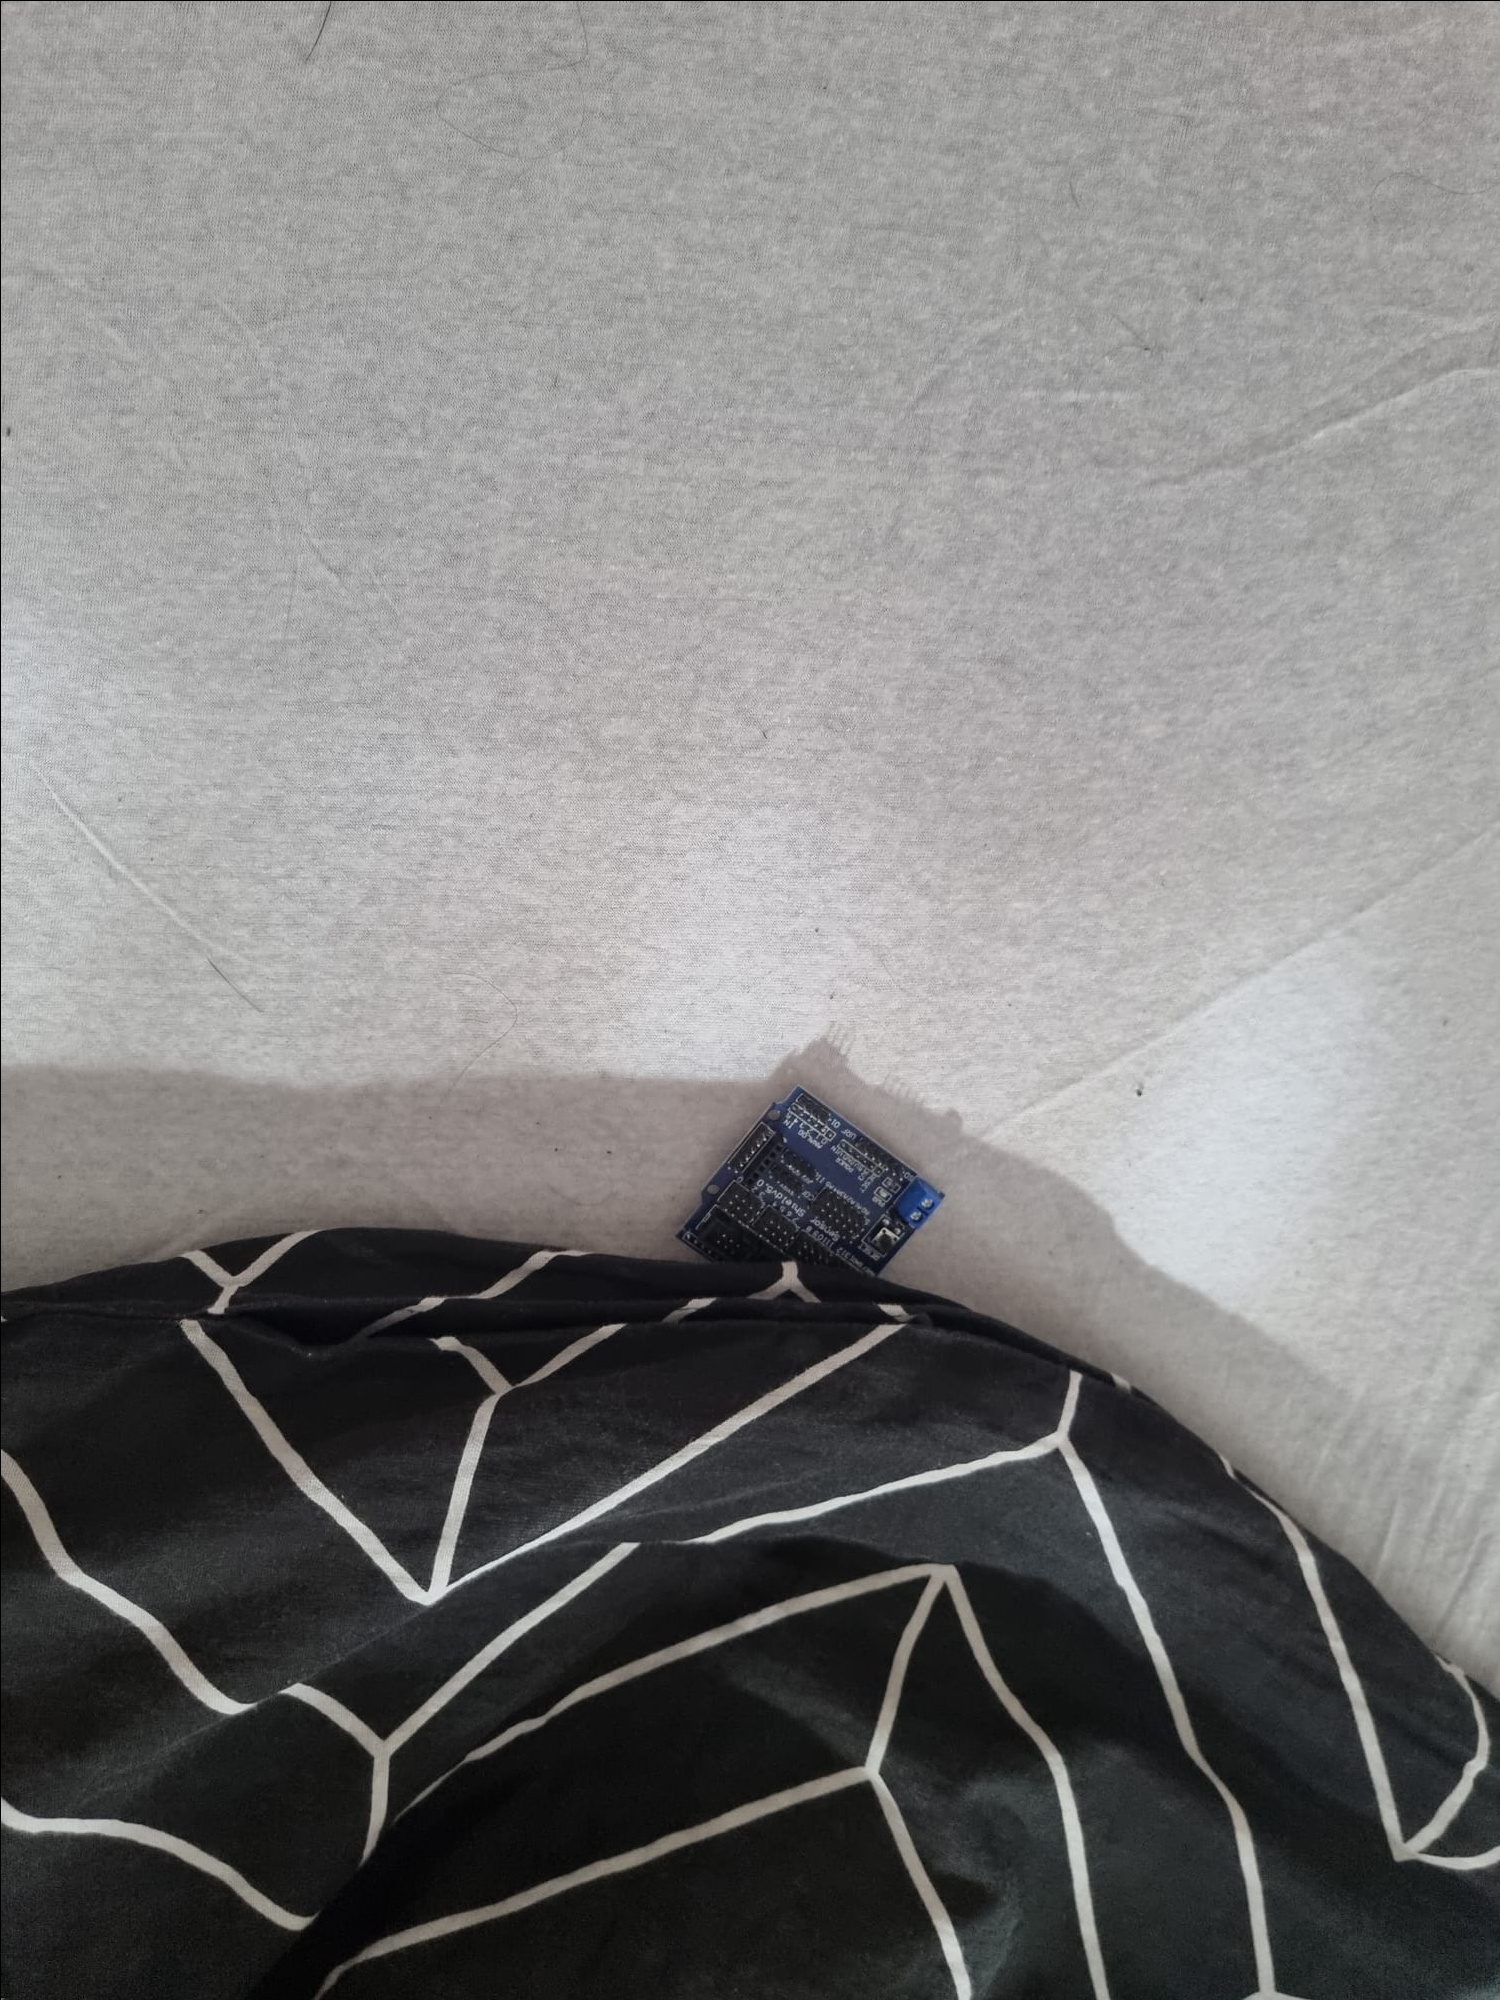5V EXPANSION: (670, 1065, 945, 1318)
